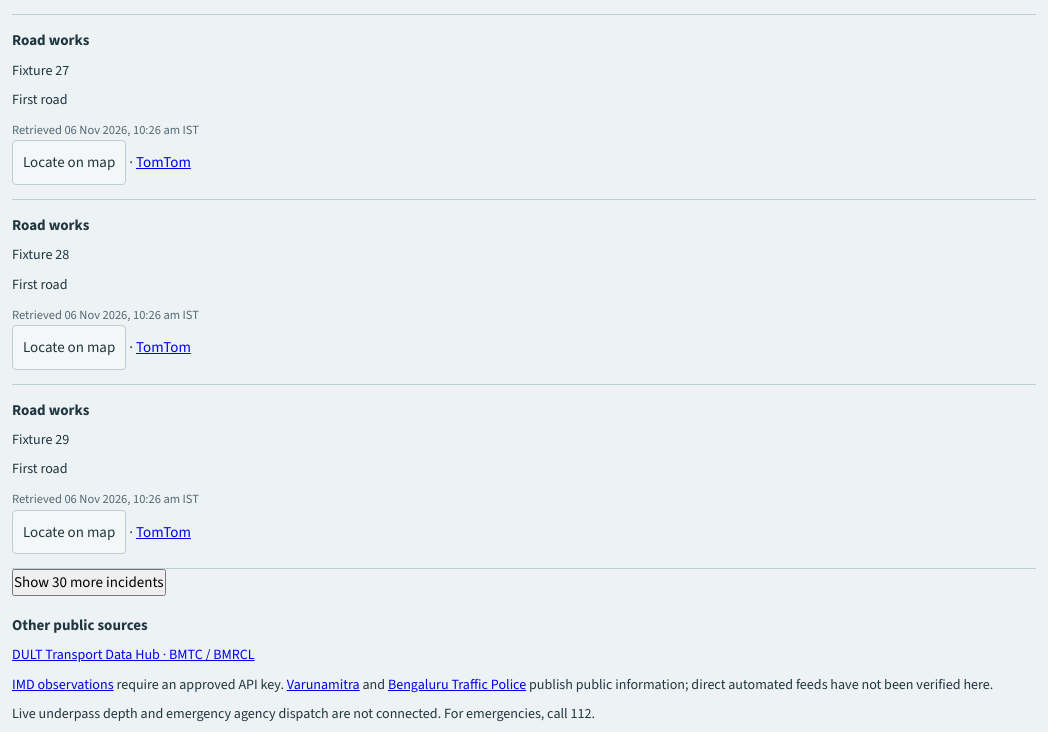
Test: large road incident feeds are paged and searchable without dropping available results
This screenshot has width=1048, height=732.
(page scrolled)
Click the button "Show 30 more incidents" at (89, 583), box [12,569,166,596]
(page scrolled)
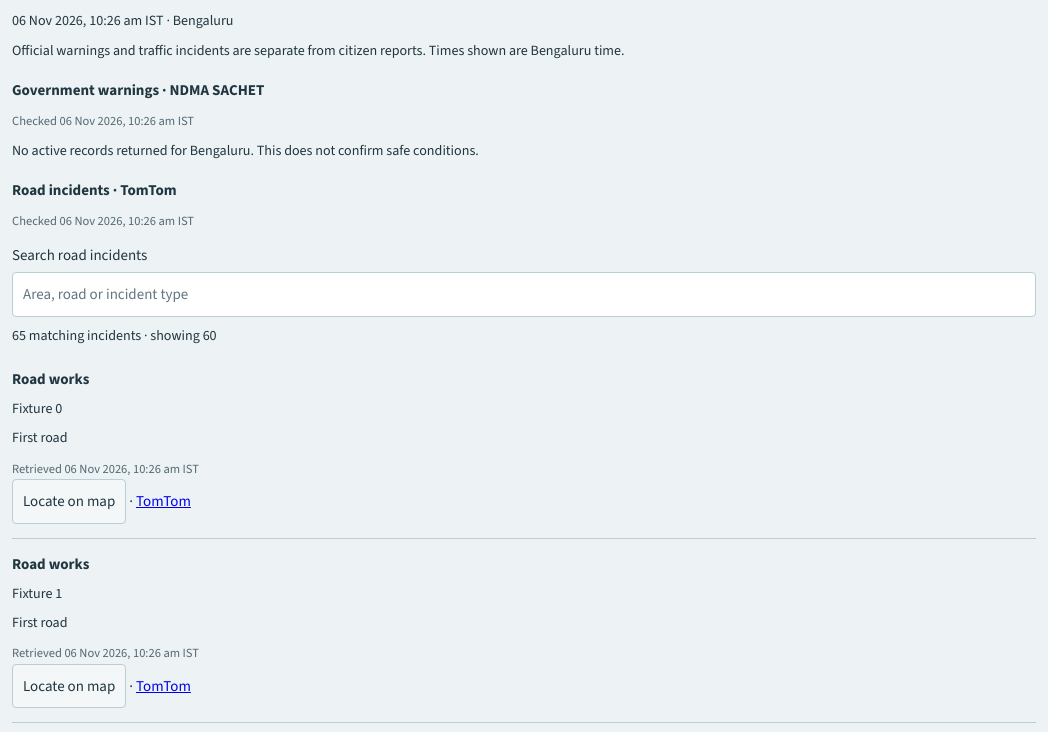
Expected: the number of buttons "Locate on map" is 60
Type "Last road" into the search field labelled "Search road incidents" at (524, 294), box [12,272,1036,317]
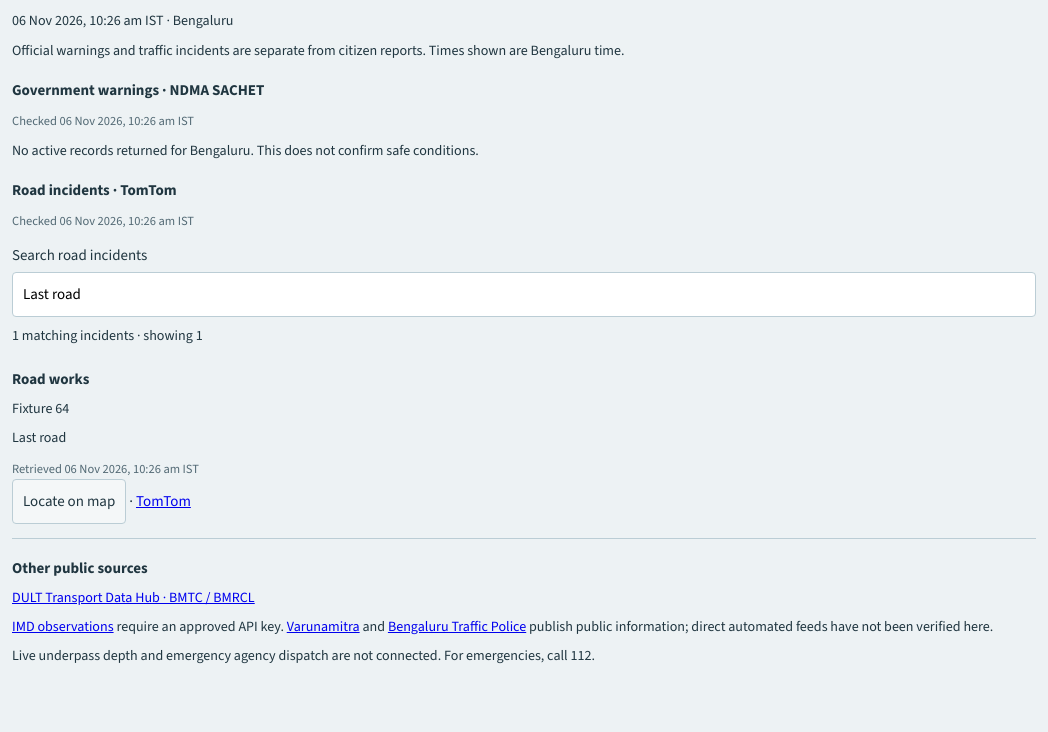
Expected: the number of buttons "Locate on map" is 1, [12,479,126,524]
Expected: the text "Fixture 64" is shown, [12,399,69,418]
